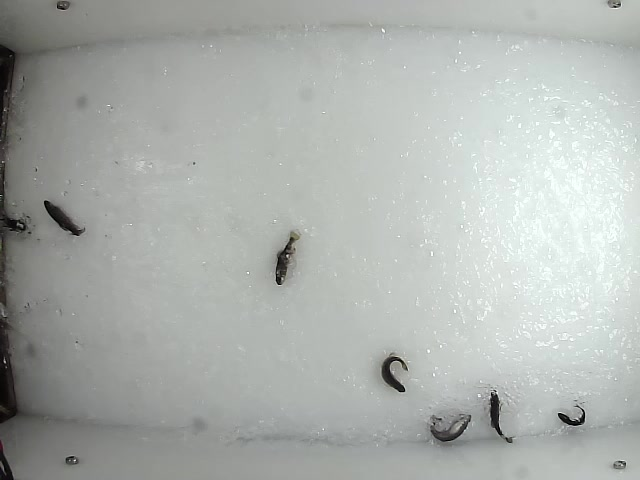fish: (41, 198, 87, 238), (272, 227, 299, 288), (487, 388, 515, 446), (428, 413, 475, 442), (379, 350, 408, 395), (558, 401, 590, 429)
